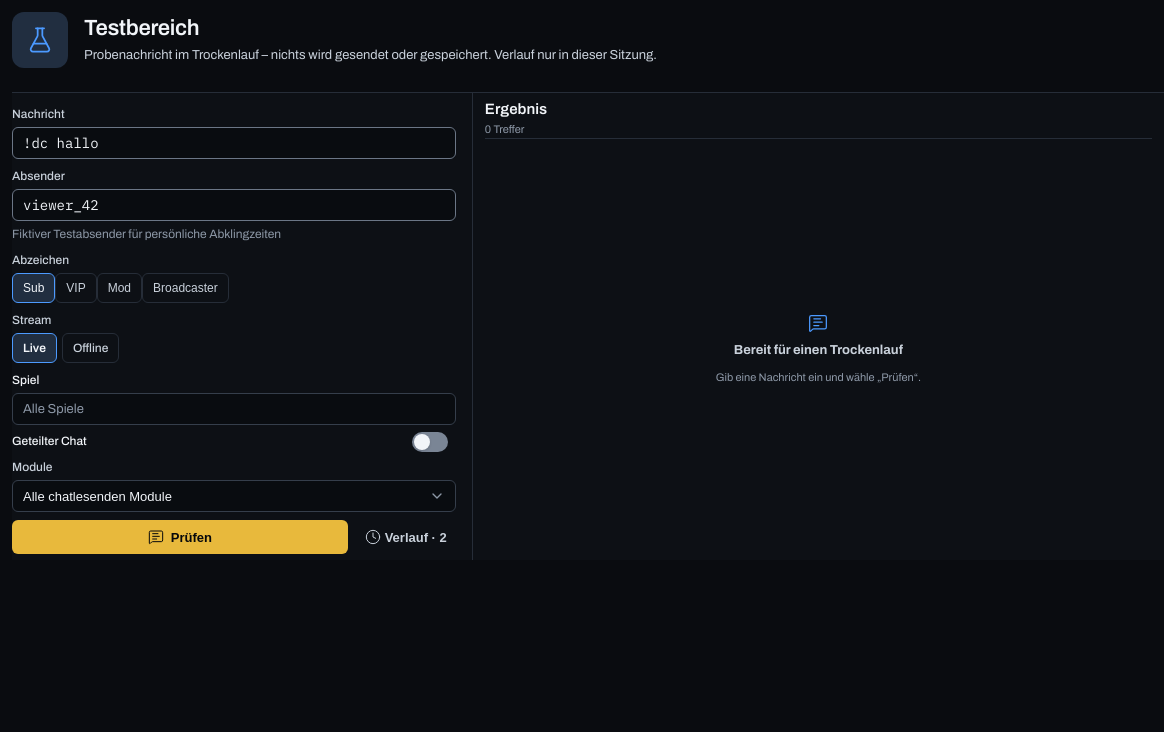
Testbereich voting result regressions › puts the votekick target check under its own pending heading
Click the button with class "test-area__run-button".
click(180, 537)  # box [12,520,348,554]
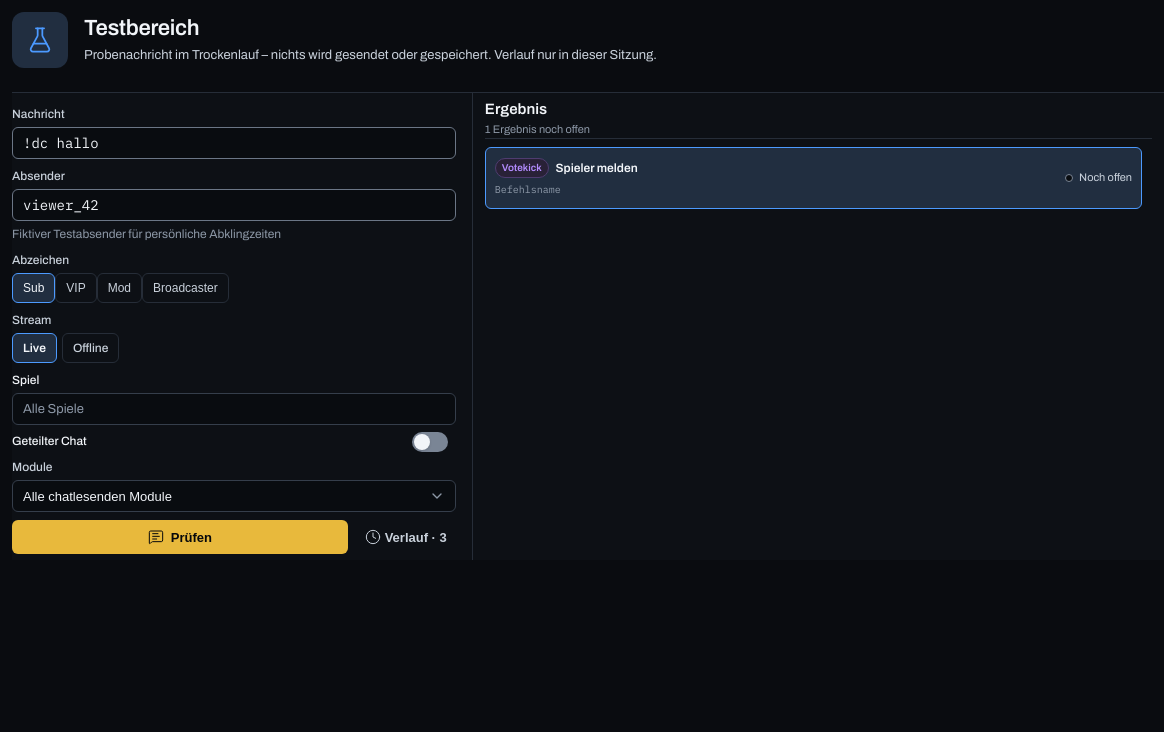
Expected: the button with class "test-area__result-row" is shown, [485,146,1142,208]
